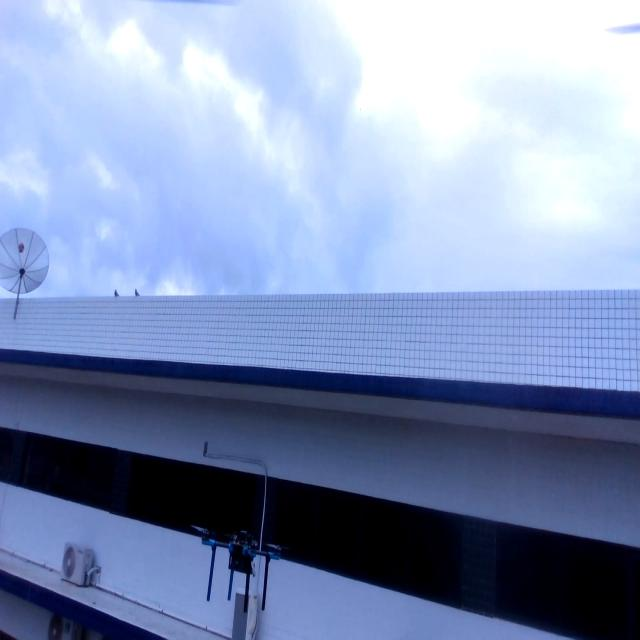-uav-: (189, 514, 288, 621)
